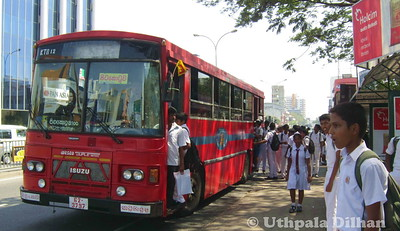bus: (20, 30, 264, 219)
